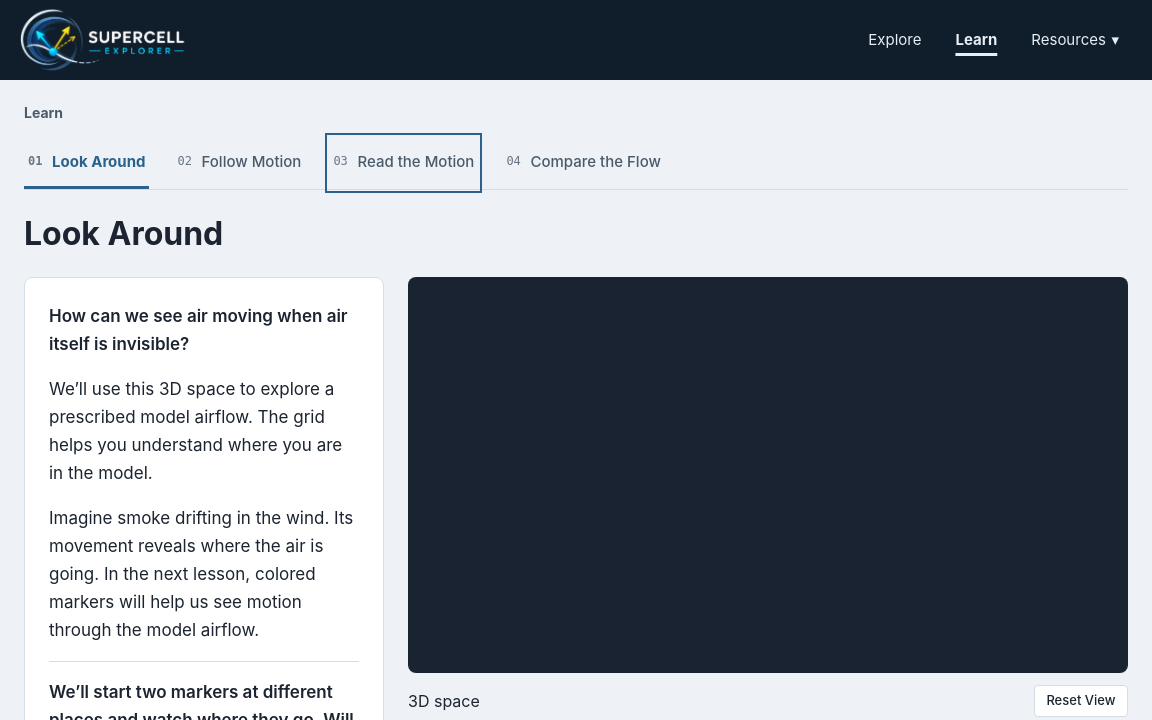
it: opens Read the Motion directly, observes current velocity, pauses, finishes and replays
Click the button "03 Read the Motion" at (404, 163), box 329,137 -> 478,189
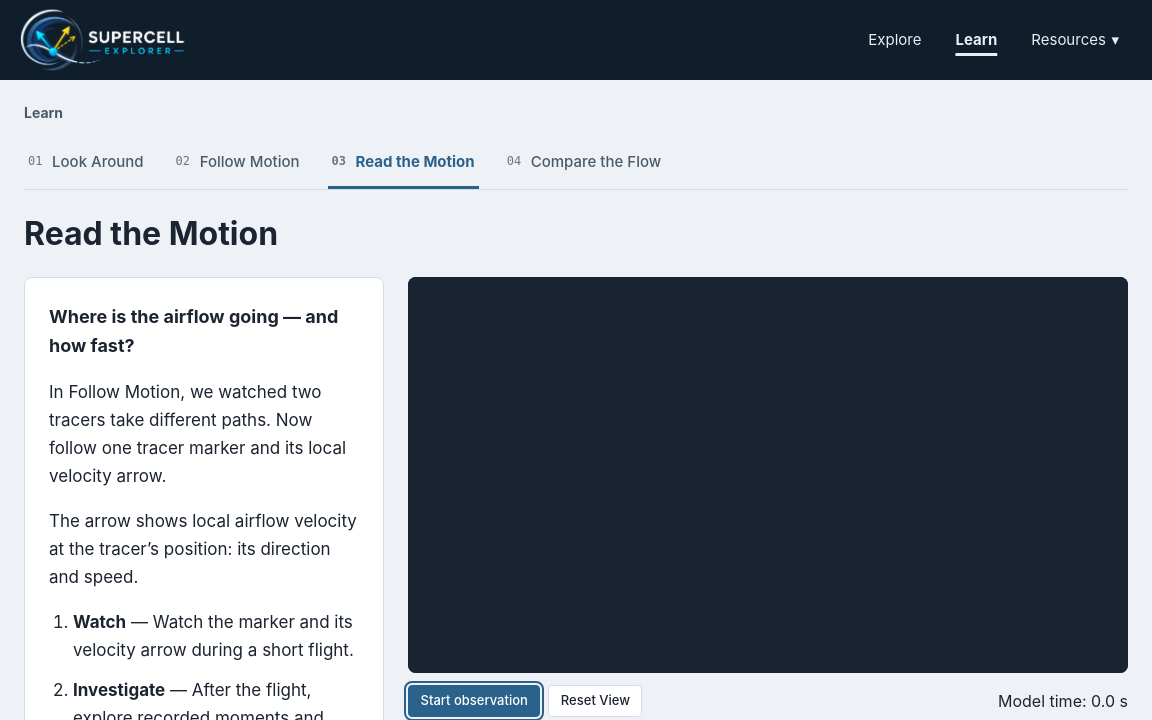
Expected: the text "Where is the airflow going — and how fast?" is shown, 49,302 -> 359,361
Expected: the text "The arrow shows local airflow velocity at the tracer’s position: its direction and speed." is shown, 49,511 -> 357,587
Expected: the button "Start observation" is shown
Click the button "Start observation" at (474, 701), box 408,685 -> 540,717
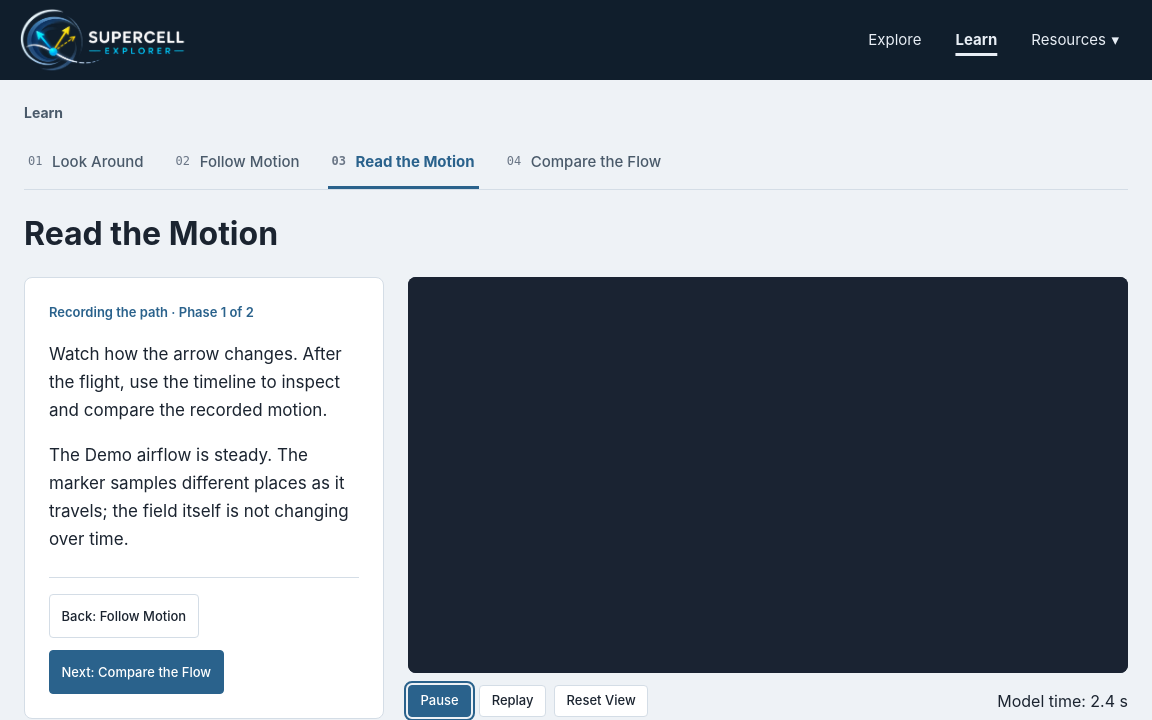
Expected: the button "Pause" is shown
Expected: the text "Recording the path · Phase 1 of 2" is shown, 49,304 -> 254,320
Expected: the text "Watch how the arrow changes. After the flight, use the timeline to inspect and compare the recorded motion." is shown, 49,344 -> 342,420
Click the button "Pause" at (440, 701), box 408,685 -> 471,717
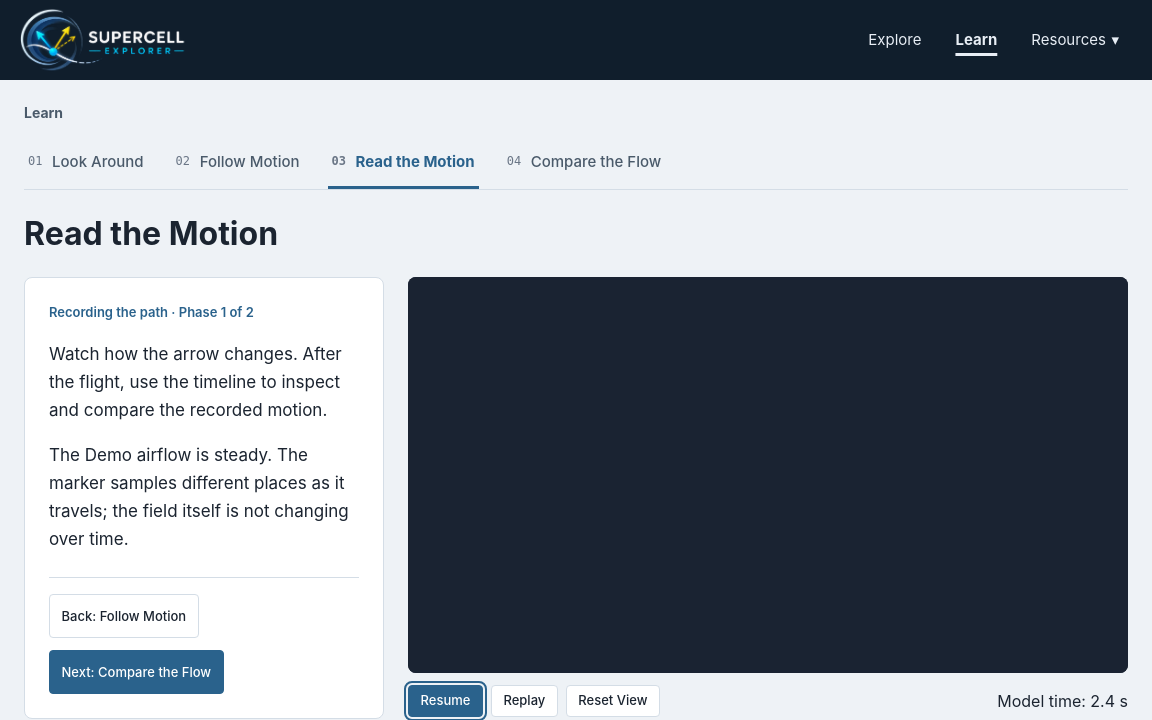
Expected: the text "Recording the path · Phase 1 of 2" is shown, 49,304 -> 254,320
Expected: the button "Resume" is shown
Expected: the button "Resume" is enabled
Click the button "Resume" at (445, 701), box 408,685 -> 483,717
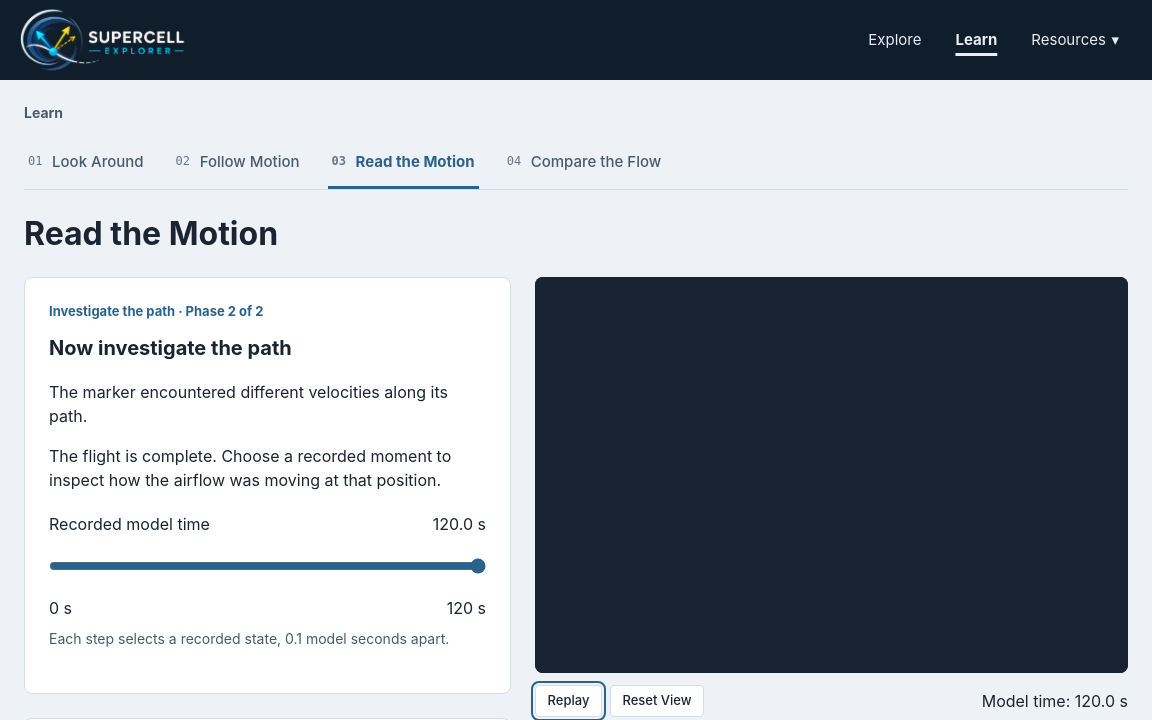
Expected: the text "The marker encountered different velocities along its path." is shown, 49,380 -> 486,428
Expected: the text "Investigate the path · Phase 2 of 2" is shown, 49,303 -> 263,319
Expected: the text "Recording the path · Phase 1 of 2" is gone
Click the button "Replay" at (568, 701), box 535,685 -> 602,717
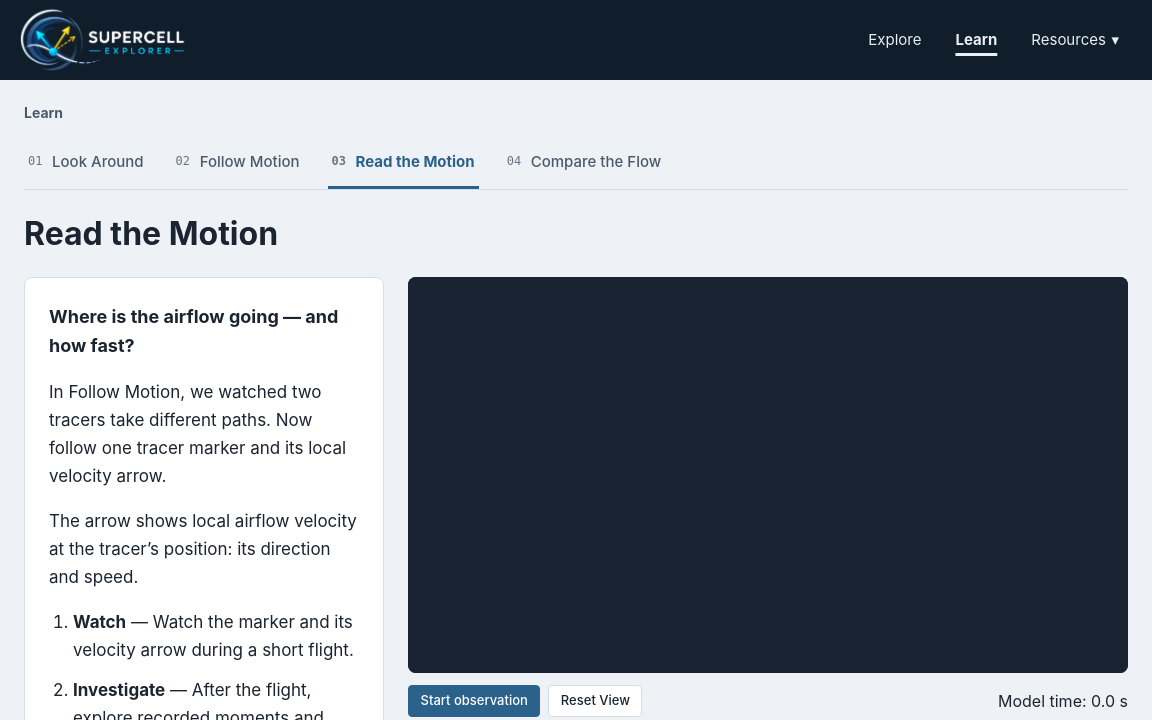
Expected: the text "Start observation" is shown, 408,685 -> 540,717
Expected: the text "Phase 2 of 2" is gone
